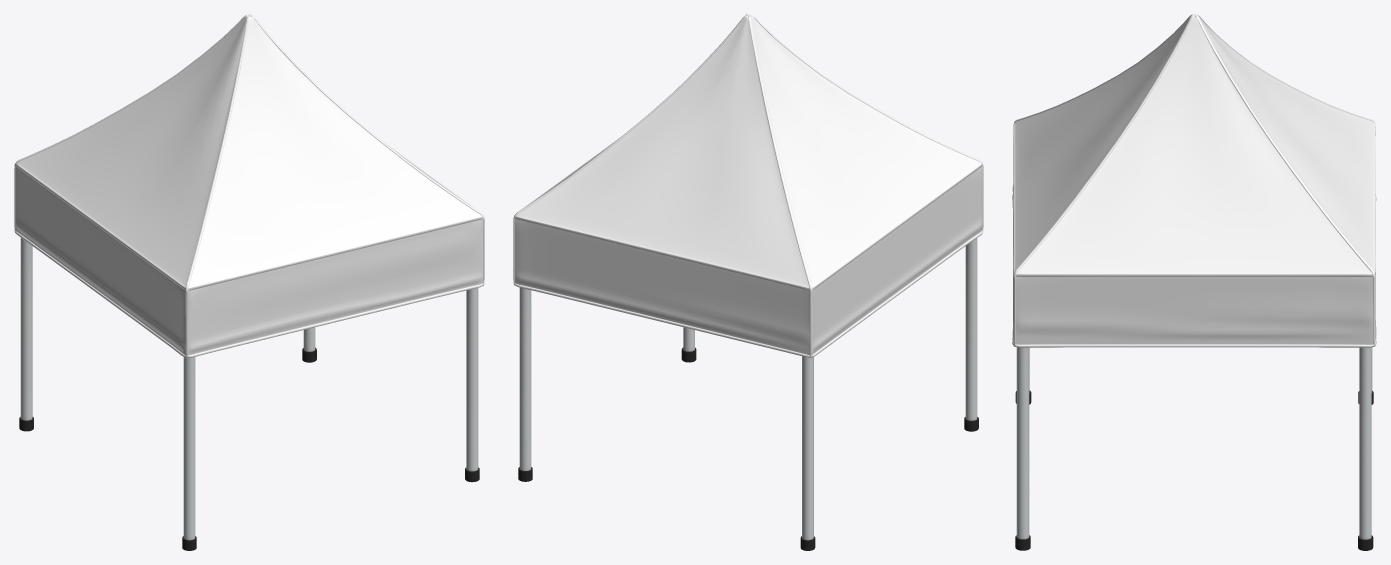
Rendered from tent-5x5.glb.
The picture shows the model from 3 angles, left to right: view 1: azimuth 30°, elevation 25°; view 2: azimuth 150°, elevation 25°; view 3: azimuth 270°, elevation 25°; orthographic projection. The views are drawn at different scales.
Parts seen in each view (by area): view 1: fabric, leg5; view 2: fabric, leg5; view 3: fabric, leg5.
Boxes of the visible parts, bbox=[...] form: fabric: bbox=[14, 14, 484, 357]; leg5: bbox=[19, 238, 479, 550]; fabric: bbox=[513, 14, 983, 357]; leg5: bbox=[518, 238, 978, 550]; fabric: bbox=[1012, 14, 1376, 347]; leg5: bbox=[1015, 347, 1373, 550].
Size of the model in its own units: 1.53 by 2.13 by 1.53.
3 materials, 1 textured.
